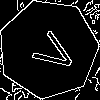V: (23, 24, 81, 78)
